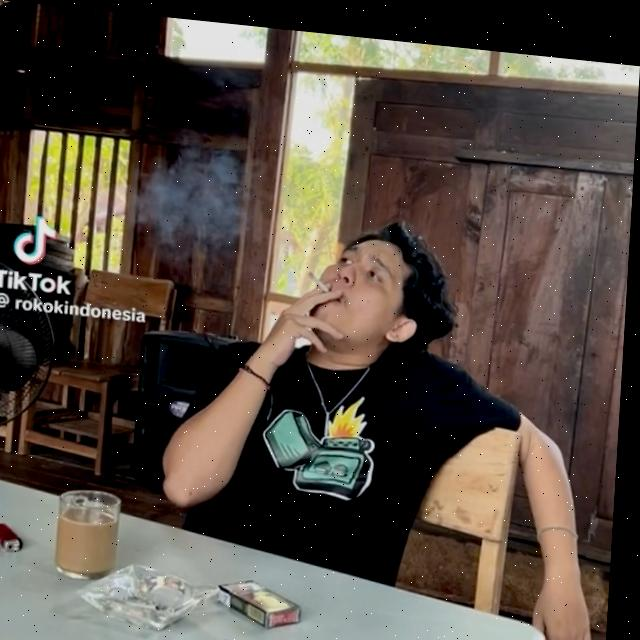cigarette: (310, 265, 333, 286)
